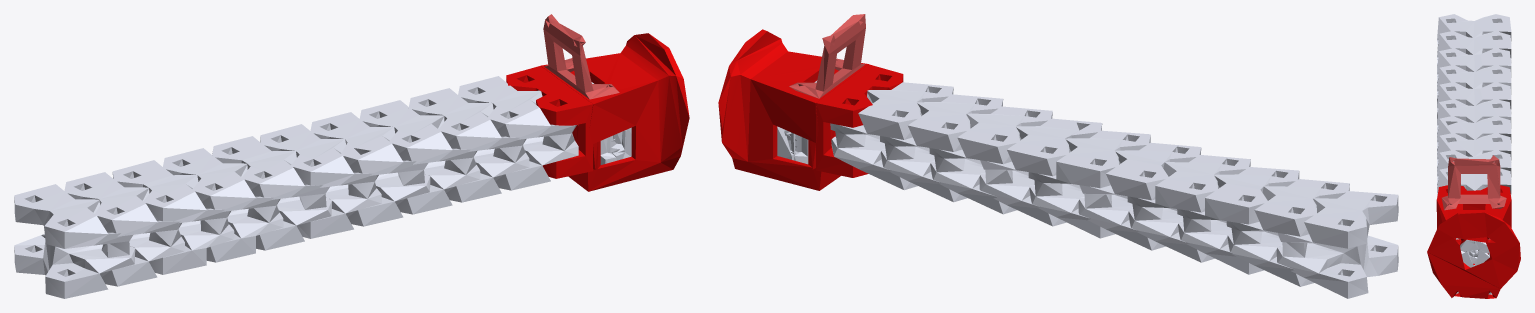
File: amoeba_arm_out.dae
3 renders of one model, left to right at view 1: azimuth 30°, elevation 25°; view 2: azimuth 150°, elevation 25°; view 3: azimuth 270°, elevation 25°, orthographic. The views are drawn at different scales.
Visible parts, largest first — view 1: Shape_IndexedFaceSet.028; view 2: Shape_IndexedFaceSet.028; view 3: Shape_IndexedFaceSet.028.
Boxes of the visible parts, box(x1,y1,x2,y2) form: Shape_IndexedFaceSet.028: box(14, 14, 689, 298); Shape_IndexedFaceSet.028: box(718, 14, 1398, 298); Shape_IndexedFaceSet.028: box(1427, 14, 1520, 298).
Bounding box in the file's own units: 0.2551 × 0.0467 × 0.061.
